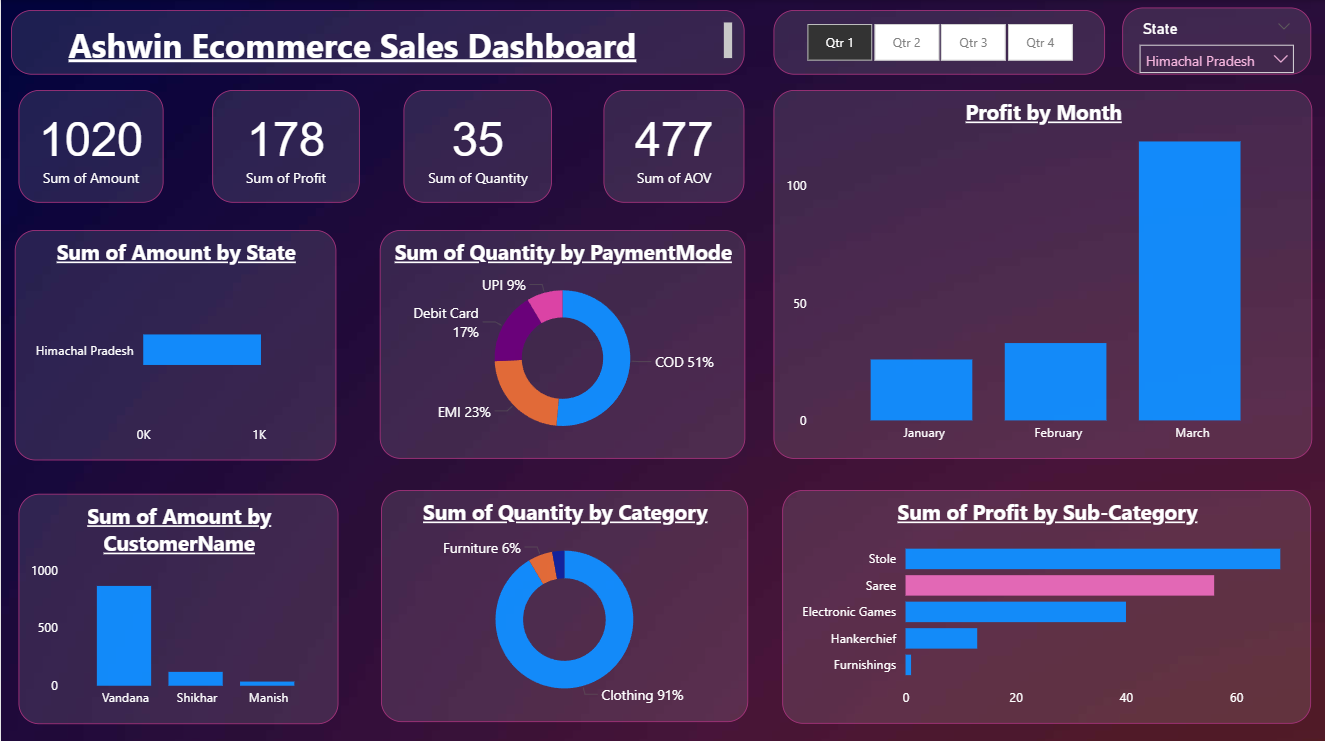

Layout of this report page (visuals, bound fields, positions):
{"tool":"powerbi","page":{"name":"Page 1","canvas":[1280,720],"ordinal":0},"visuals":[{"type":"textbox","box":[9.7,9.7,708.2,62.7],"z":0},{"type":"columnChart","title":"Profit by Month","fields":{"Category":["Orders.Order Date.Variation.Date Hierarchy.Month"],"Y":["Details.Profit"]},"box":[745.6,86.9,520,355.9],"z":1000},{"type":"barChart","fields":{"Category":["Details.Sub-Category"],"Y":["Details.Profit"]},"box":[754,472.9,510.3,225.6],"z":2000},{"type":"donutChart","fields":{"Y":["Details.Quantity"],"Category":["Details.Category"]},"box":[366.7,472.9,354,223.7],"z":3000},{"type":"donutChart","fields":{"Category":["Details.PaymentMode"],"Y":["Details.Quantity"]},"box":[365,222.3,352.7,220.9],"z":4000},{"type":"card","fields":{"Values":["Details.Amount"]},"box":[16.9,86.9,139.9,108.6],"z":5000},{"type":"card","fields":{"Values":["Details.Profit"]},"box":[203.9,86.9,142.4,108.6],"z":6000},{"type":"card","fields":{"Values":["Details.Quantity"]},"box":[388.5,86.9,143.6,108.6],"z":7000},{"type":"card","fields":{"Values":["Details.AOV"]},"box":[581.5,86.9,136.3,108.6],"z":8000},{"type":"barChart","fields":{"Y":["Details.Amount"],"Category":["Orders.State"]},"box":[13.7,222.3,310.1,222.3],"z":9000},{"type":"columnChart","fields":{"Category":["Orders.CustomerName"],"Y":["Details.Amount"]},"box":[16.5,476.2,308.7,222.3],"z":10000},{"type":"slicer","fields":{"Values":["Orders.Order Date.Variation.Date Hierarchy.Quarter"]},"box":[745.6,9.7,319.7,62.7],"z":11000},{"type":"slicer","fields":{"Values":["Orders.State"]},"box":[1082.2,7.2,182.2,65.1],"z":11001}]}

Visuals, with their boxes in screenshot pixels (x1, y1, x2, y2), scaled from the page's 1280x720 canvas onto the 1325x741 screenshot:
textbox: 10, 10, 743, 75
"Profit by Month" columnChart: 772, 89, 1310, 456
barChart - Details.Sub-Category x Details.Profit: 781, 487, 1309, 719
donutChart - Details.Quantity x Details.Category: 380, 487, 746, 717
donutChart - Details.PaymentMode x Details.Quantity: 378, 229, 743, 456
card - Details.Amount: 17, 89, 162, 201
card - Details.Profit: 211, 89, 358, 201
card - Details.Quantity: 402, 89, 551, 201
card - Details.AOV: 602, 89, 743, 201
barChart - Details.Amount x Orders.State: 14, 229, 335, 458
columnChart - Orders.CustomerName x Details.Amount: 17, 490, 337, 719
slicer - Orders.Order Date.Variation.Date Hierarchy.Quarter: 772, 10, 1103, 75
slicer - Orders.State: 1120, 7, 1309, 74
